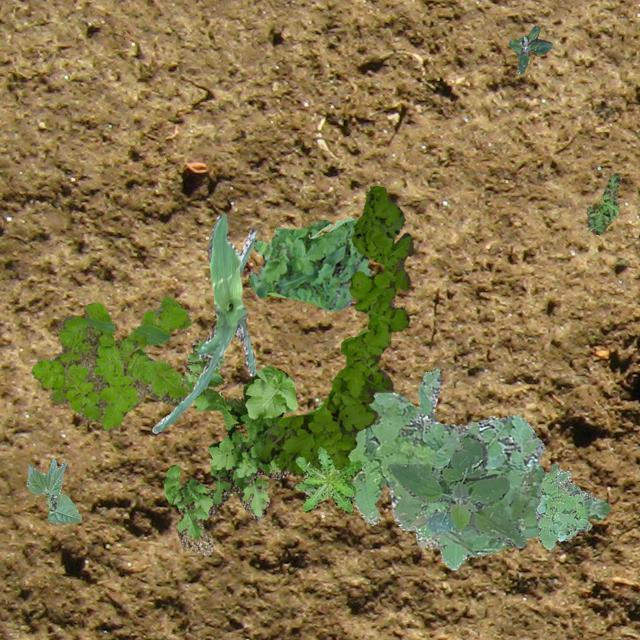crop: (152, 212, 256, 432), (26, 458, 80, 522)
weed: (302, 368, 610, 568), (260, 186, 412, 474), (162, 338, 296, 554), (30, 294, 190, 430), (386, 432, 526, 546), (248, 216, 370, 310), (534, 462, 592, 550), (294, 446, 362, 512), (508, 24, 552, 72), (586, 172, 620, 234)
